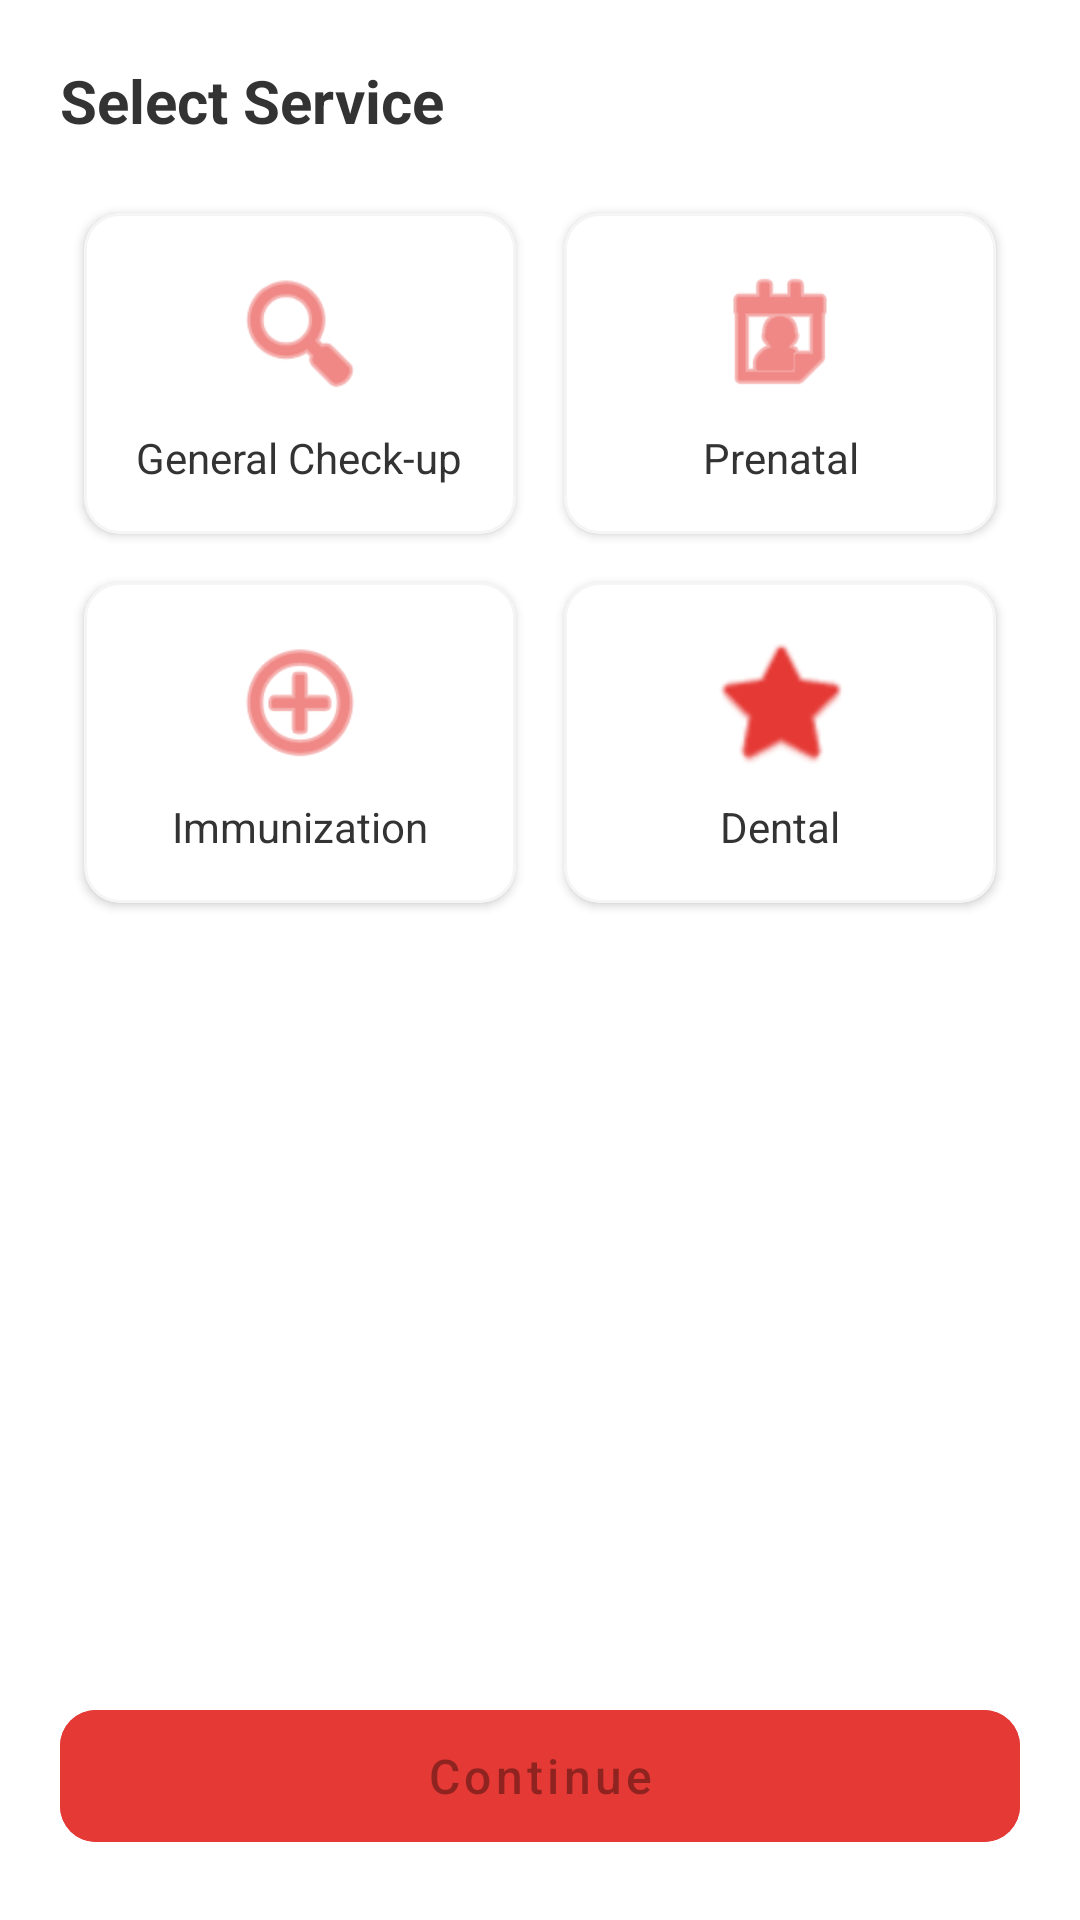

Icons on this 1080w x 1920h Android screen, each with its box as (x1, y1, x2, y2):
add: (247, 649, 353, 756)
calendar: (733, 279, 827, 384)
search: (247, 280, 353, 387)
star on: (721, 645, 841, 761)
